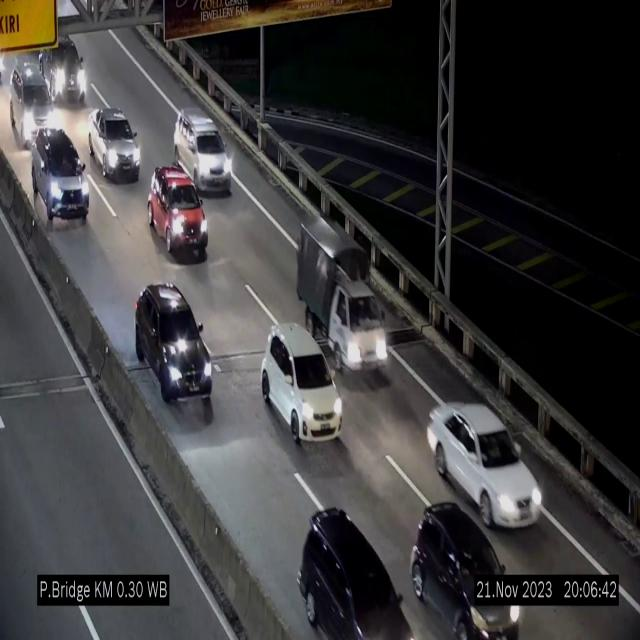Car: (286, 505, 418, 640), (403, 498, 524, 640), (426, 402, 548, 527), (135, 283, 213, 421), (262, 325, 342, 444), (4, 54, 66, 151), (34, 126, 92, 227), (148, 164, 208, 260), (174, 108, 232, 192), (42, 30, 92, 108), (89, 106, 141, 180)
Truck: (296, 220, 388, 373)
